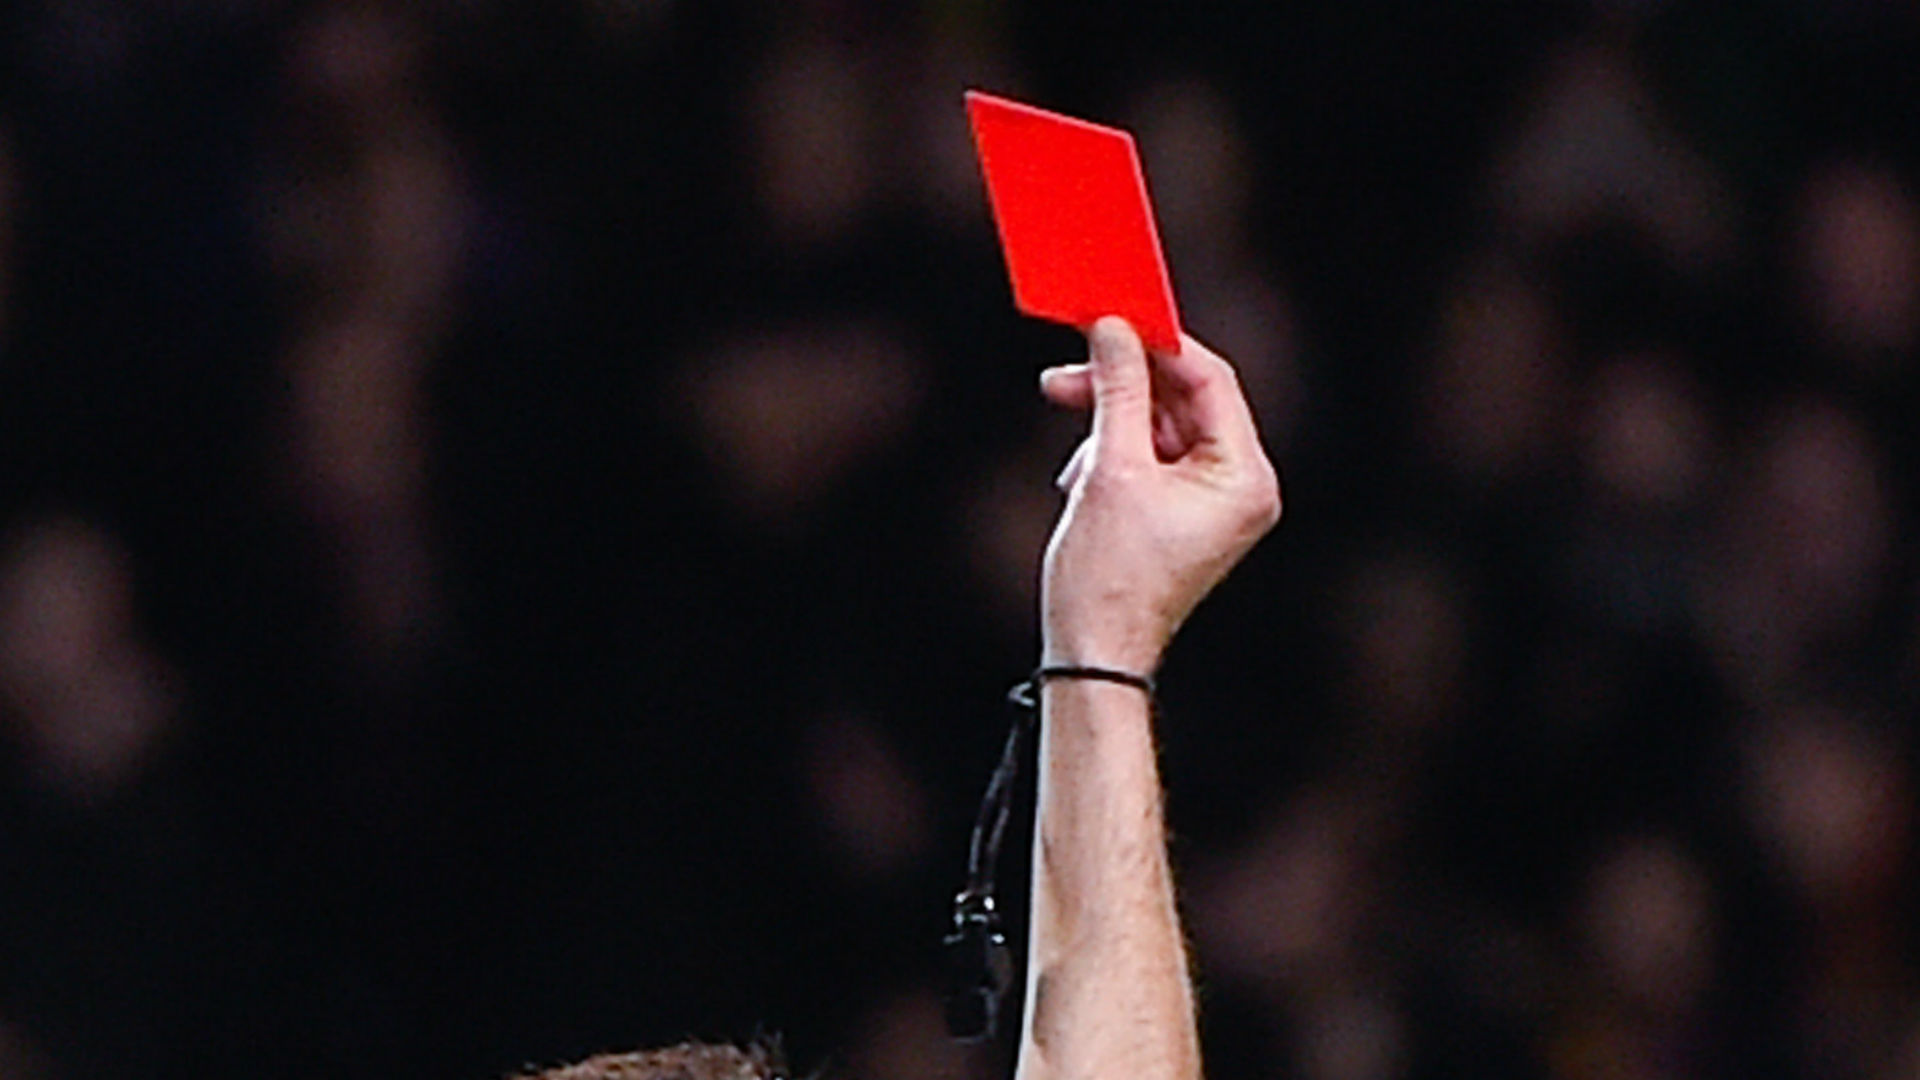red_card: (920, 54, 1327, 650)
